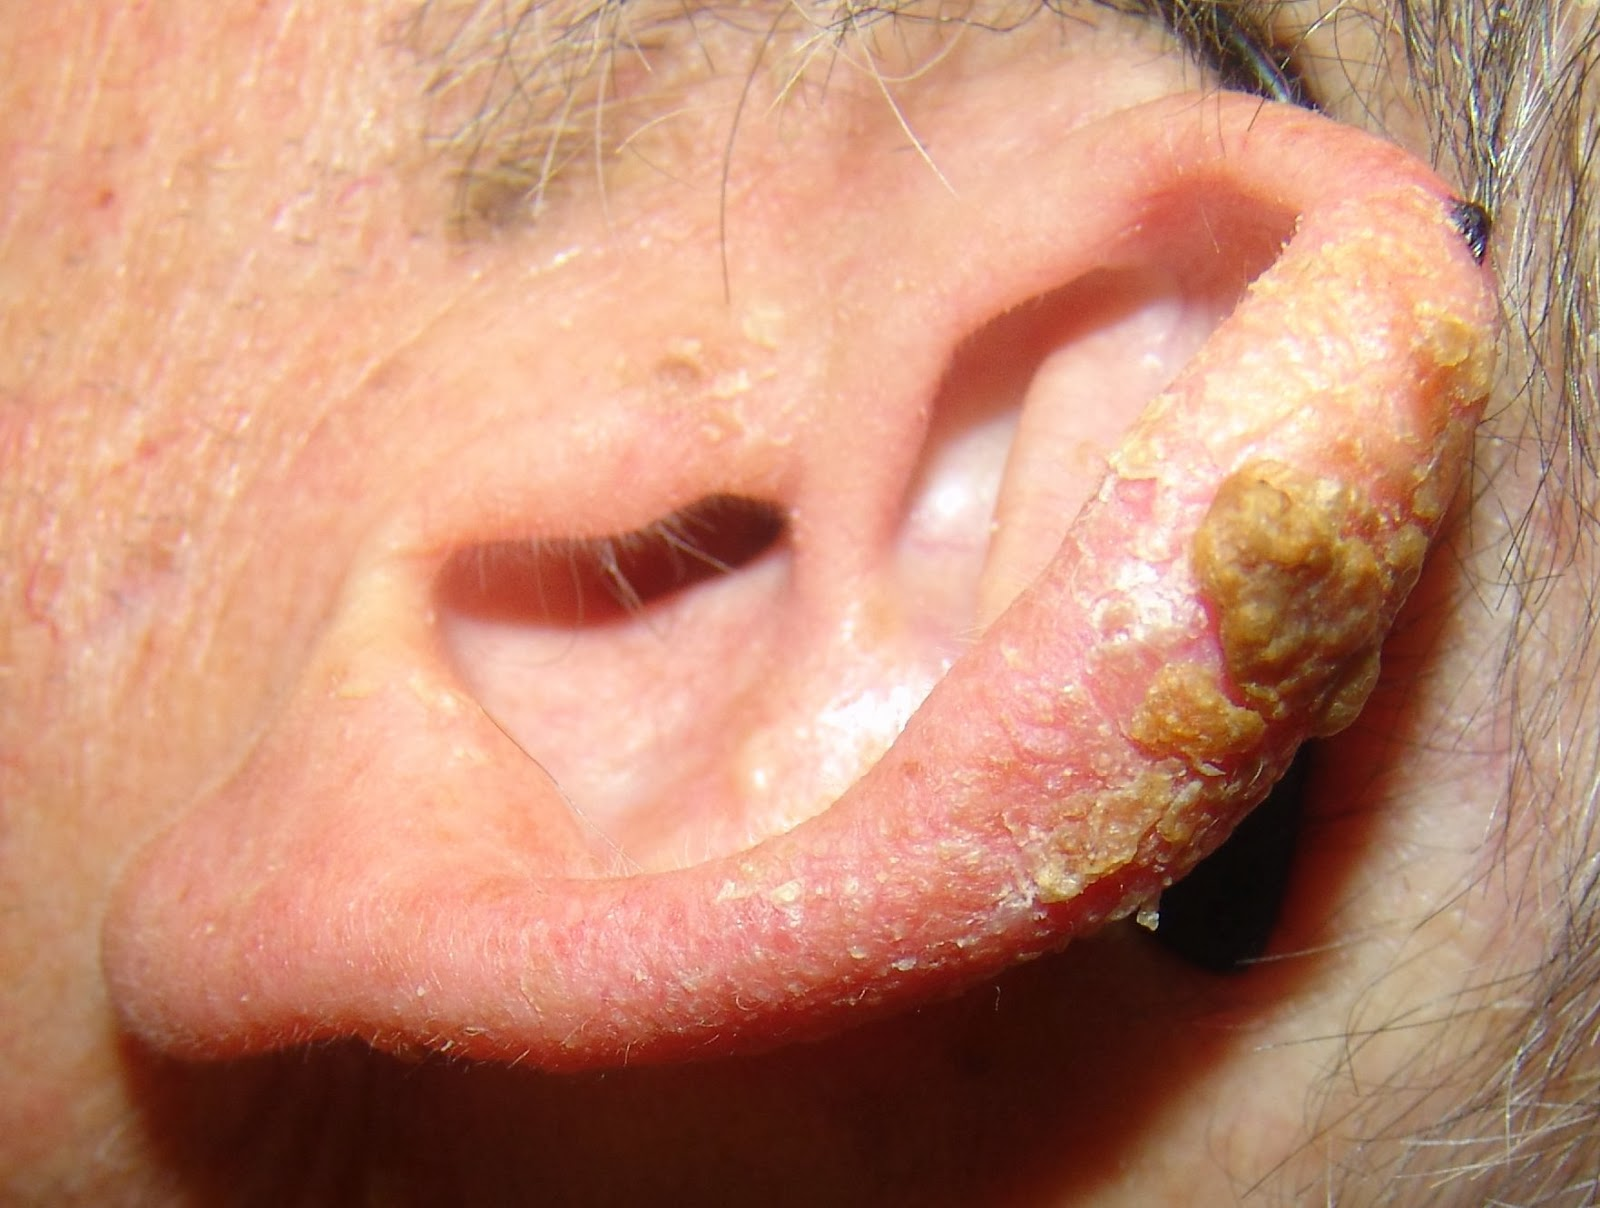Actinic Keratosis: (929, 153, 1575, 1050)
